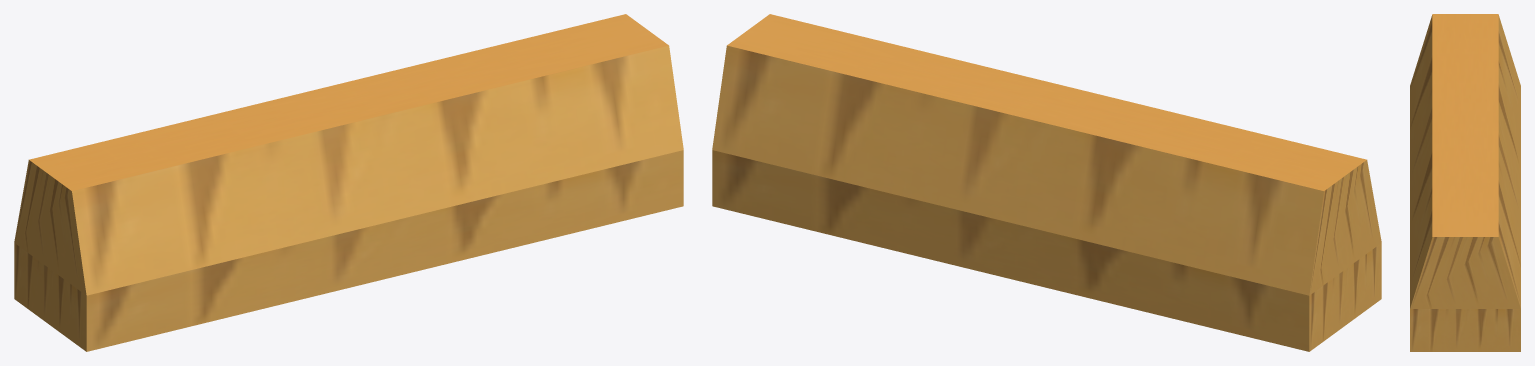
File: rc_wa_roof_eave_2m.glb
The picture shows the model from 3 angles, left to right: view 1: azimuth 30°, elevation 25°; view 2: azimuth 150°, elevation 25°; view 3: azimuth 270°, elevation 25°; orthographic projection. The views are drawn at different scales.
Visible parts, largest first — view 1: SM_RC_WA_ThatchEave_2m; view 2: SM_RC_WA_ThatchEave_2m; view 3: SM_RC_WA_ThatchEave_2m.
Part boxes in pixels (x1,y1,x2,y2): SM_RC_WA_ThatchEave_2m: (14,14,683,351); SM_RC_WA_ThatchEave_2m: (712,14,1381,351); SM_RC_WA_ThatchEave_2m: (1410,14,1520,351).
Bounding box in the file's own units: 2 × 0.48 × 0.42.
1 material, 1 textured.
